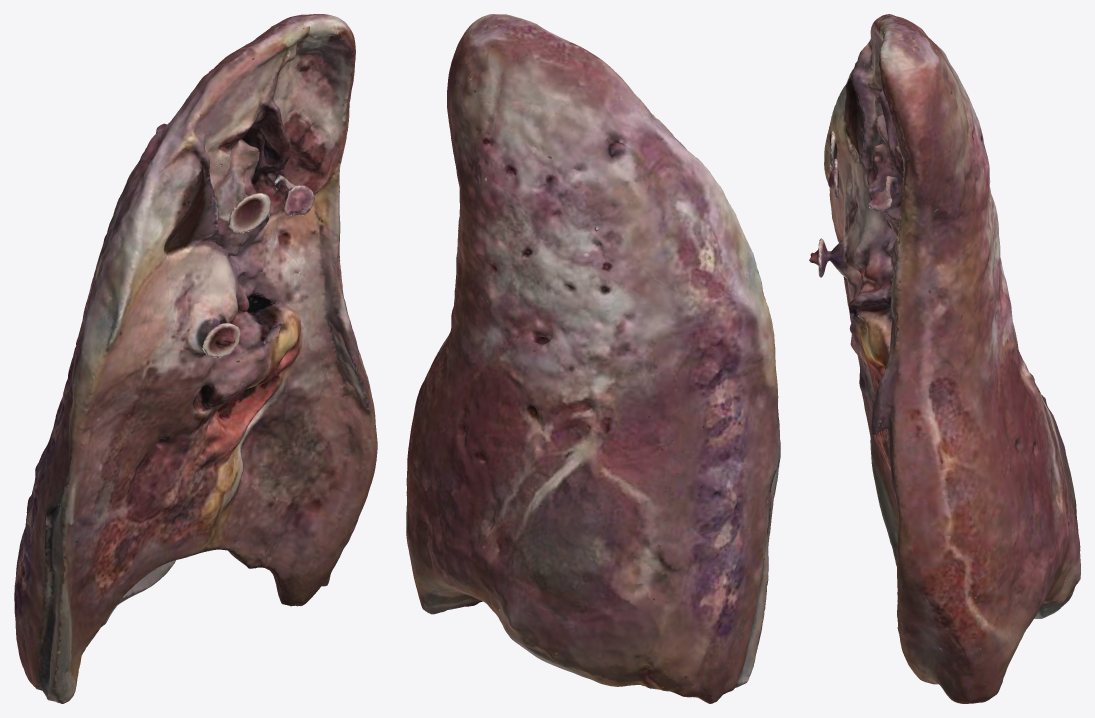
Rendered from lung-tuberculosis.glb.
The picture shows the model from 3 angles, left to right: view 1: azimuth 30°, elevation 25°; view 2: azimuth 150°, elevation 25°; view 3: azimuth 270°, elevation 25°; orthographic projection. The views are drawn at different scales.
Visible parts, largest first — view 1: Lung; view 2: Lung; view 3: Lung.
Boxes of the visible parts, x1,y1,x2,y2 form: Lung: (14, 14, 377, 703); Lung: (406, 14, 780, 703); Lung: (809, 14, 1080, 703).
Size of the model in its own units: 0.2557 by 0.444 by 0.1609.
1 material, 1 textured.
